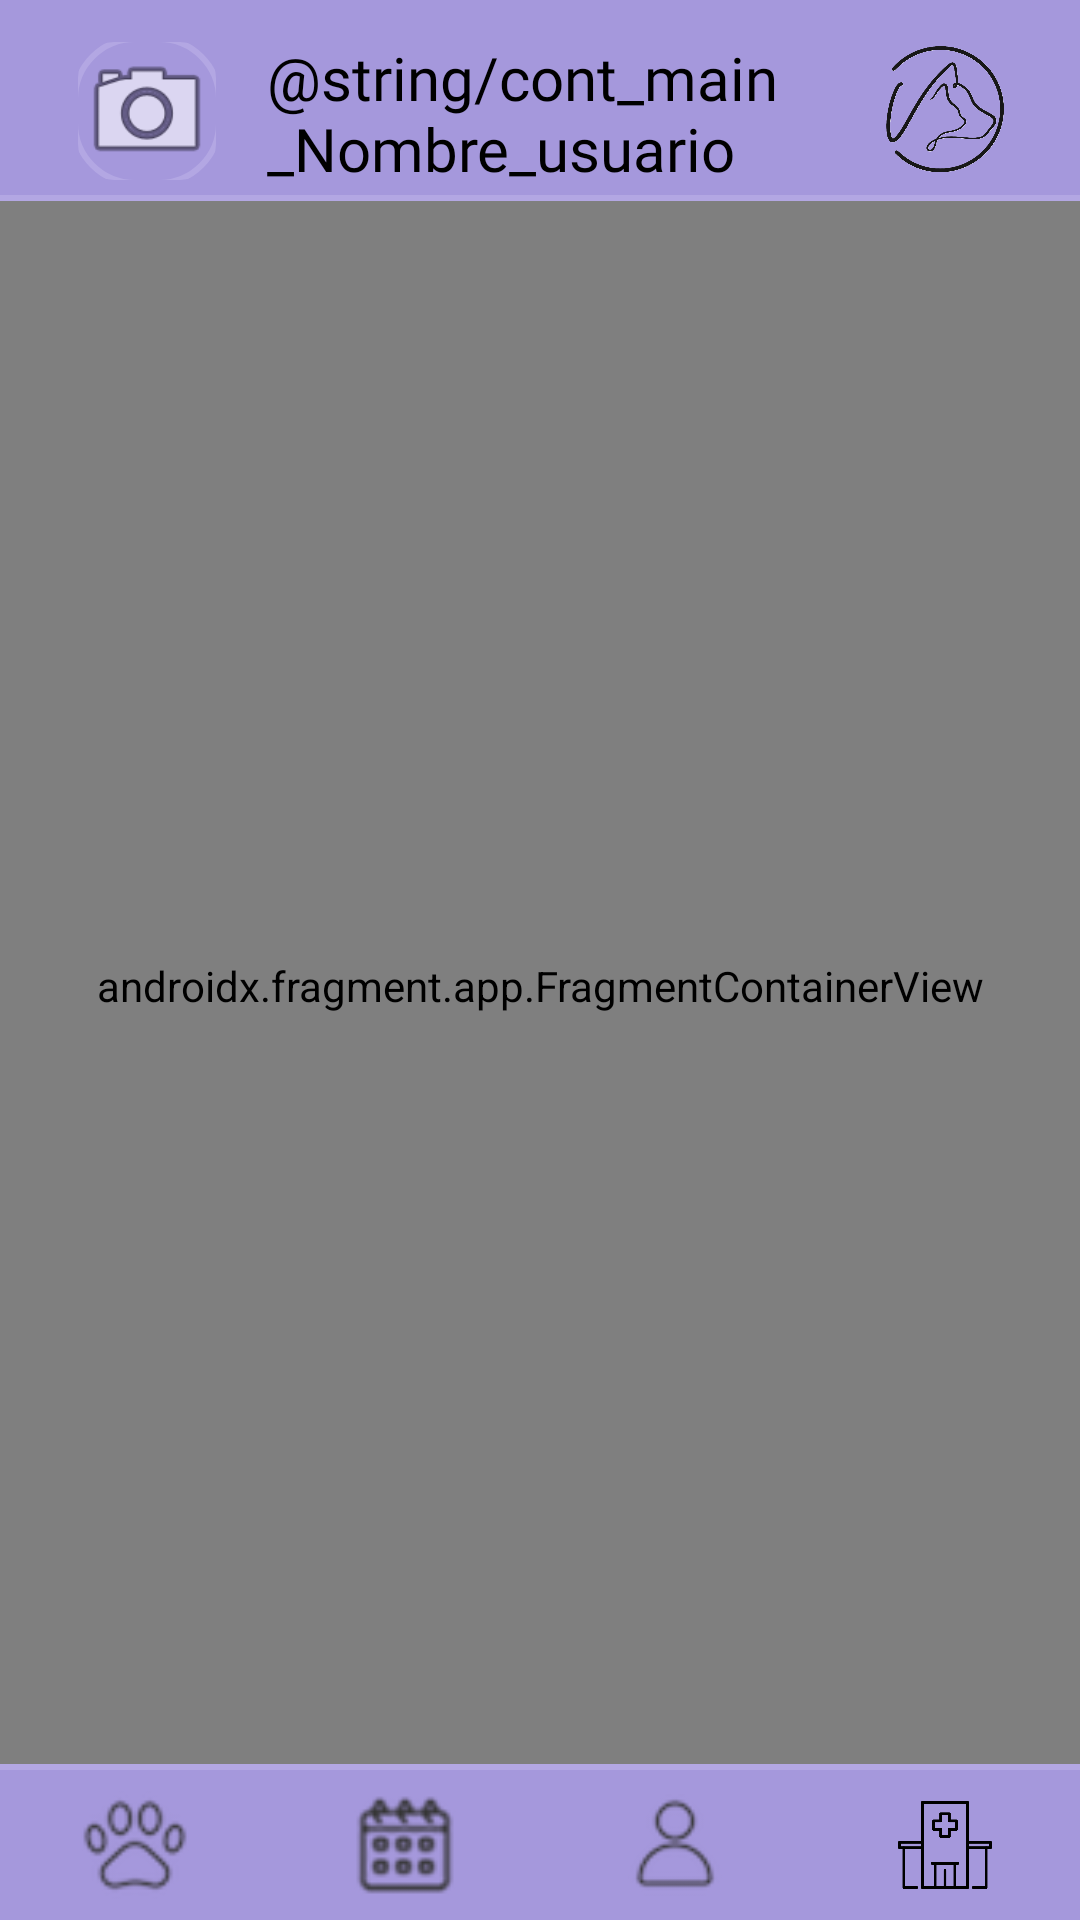

Where icons sit on this 1080w x 1920h app screen, as box(x1, y1, x2, y2):
calendar: box(358, 1797, 452, 1893)
camera: box(94, 66, 200, 151)
clinicas: box(898, 1801, 992, 1889)
huella: box(84, 1800, 186, 1890)
user: box(636, 1800, 714, 1887)
